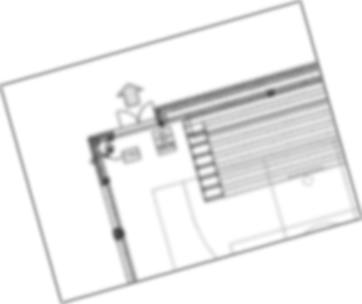double door: (116, 99, 158, 129)
